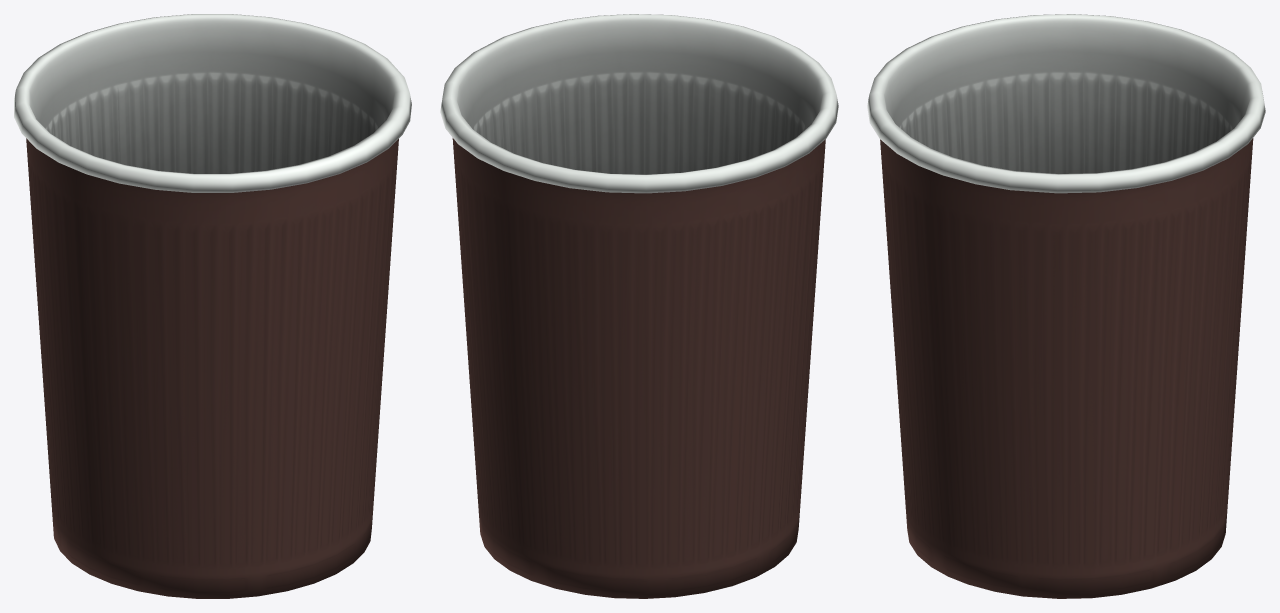
The model's file is paper-cup_1.glb.
The picture shows the model from 3 angles, left to right: view 1: azimuth 30°, elevation 25°; view 2: azimuth 150°, elevation 25°; view 3: azimuth 270°, elevation 25°; orthographic projection.
Visible parts, largest first — view 1: Plastic Cup; view 2: Plastic Cup; view 3: Plastic Cup.
Boxes of the visible parts, box(x1,y1,x2,y2) form: Plastic Cup: box(14, 14, 411, 598); Plastic Cup: box(440, 14, 838, 598); Plastic Cup: box(867, 14, 1265, 598).
Bounding box in the file's own units: 0.0846 × 0.1028 × 0.0847.
1 material, 1 textured.
